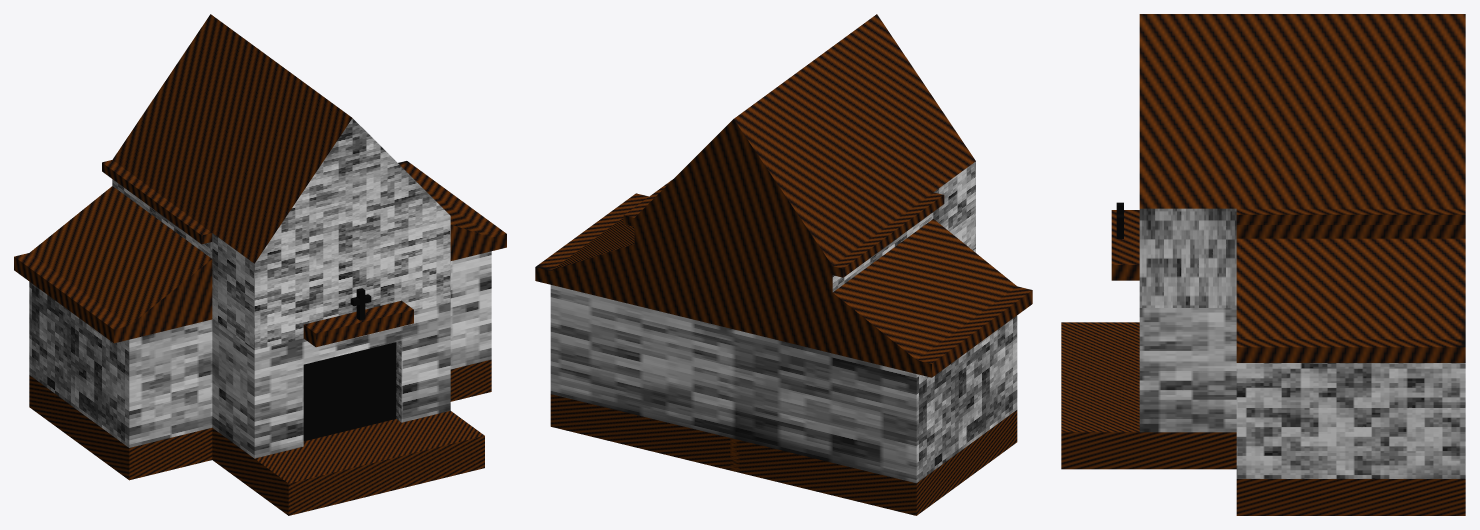
Rendered from church.fbx.
The picture shows the model from 3 angles, left to right: view 1: azimuth 30°, elevation 25°; view 2: azimuth 150°, elevation 25°; view 3: azimuth 270°, elevation 25°; orthographic projection. The views are drawn at different scales.
Parts seen in each view (by area): view 1: Cube.115; view 2: Cube.115; view 3: Cube.115.
Part boxes in pixels (x1=…): Cube.115: x1=14, y1=14, x2=506, y2=515; Cube.115: x1=535, y1=14, x2=1032, y2=515; Cube.115: x1=1061, y1=14, x2=1465, y2=515.
Size of the model in its own units: 1522 by 1292 by 1182.
